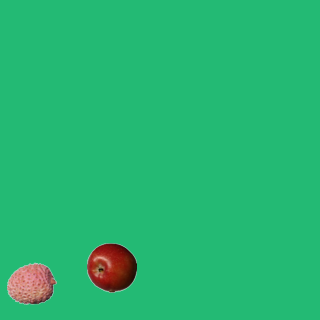Apple Braeburn: (86, 242, 136, 292)
Lychee: (6, 258, 56, 308)
